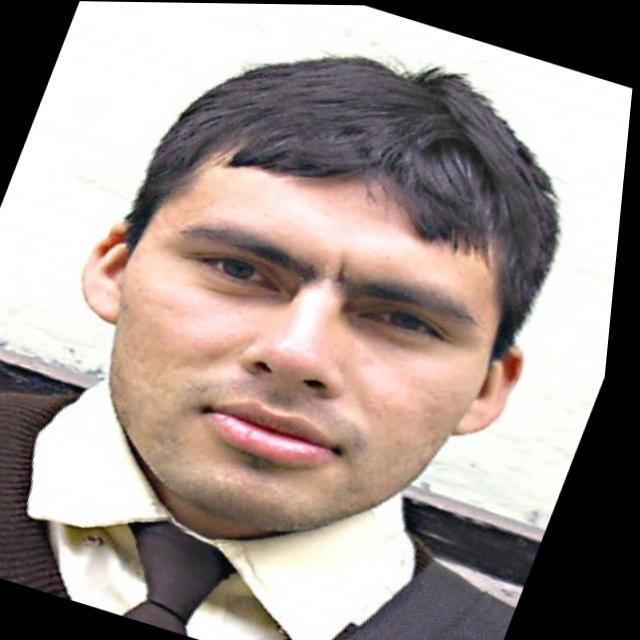Nonhelmet: (78, 40, 528, 518)
